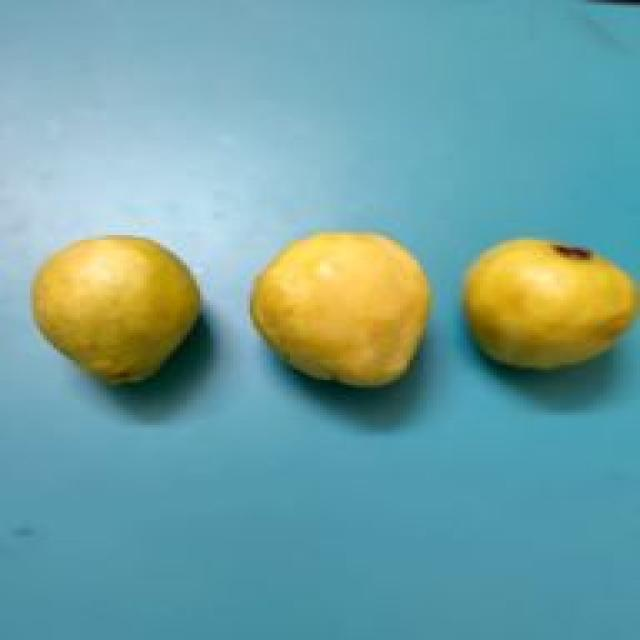Good_Guava: (250, 230, 433, 392), (30, 235, 203, 390), (463, 238, 640, 372)
